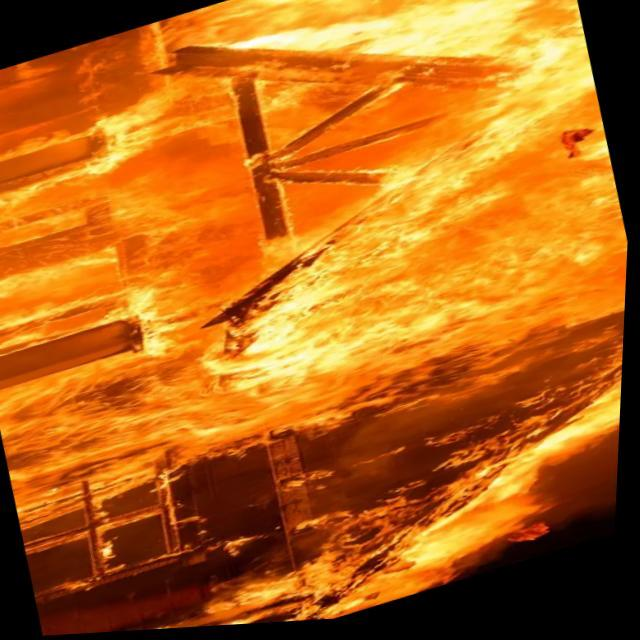fire: (0, 0, 640, 518), (17, 350, 623, 638), (203, 376, 625, 630)
